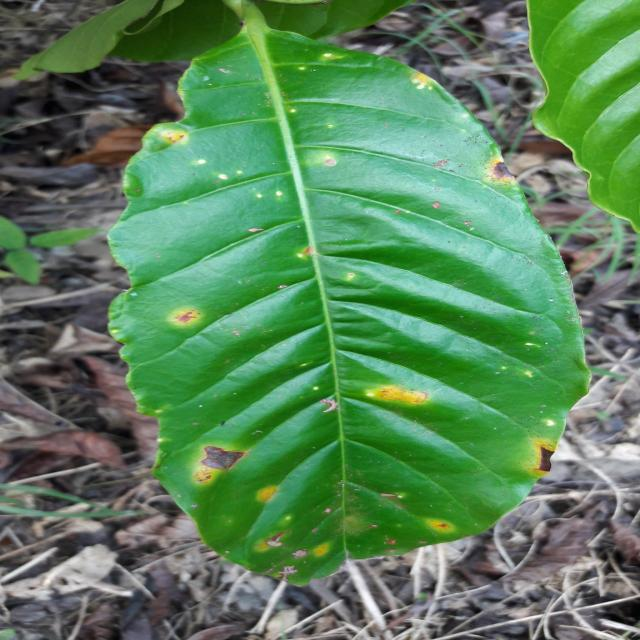Enfermedad-Roya: (106, 8, 591, 587)
